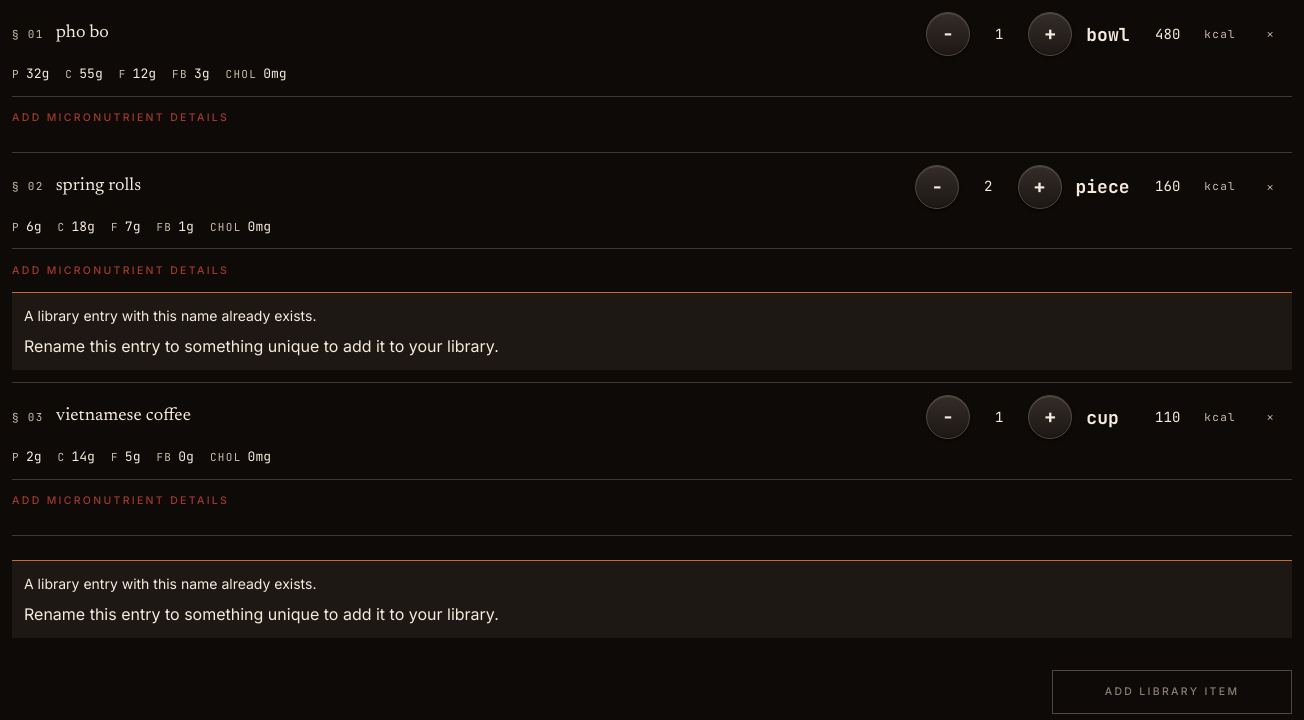
Test: <ConfirmationScreen /> › POST-MVP-CODEX-R3 — per-row clientId + per-row dedup state › R3-C2: renaming the colliding row (row 1) clears its dedup match → Save re-enables
Expected: the message with test id "confirmation-item-1-dedup-banner" is shown, [12, 292, 1292, 370]
Replace the text in the field with test id "confirmation-item-1-name" with "spring rolls fresh". click: {"x": 479, "y": 186}
box: [56, 168, 903, 204]
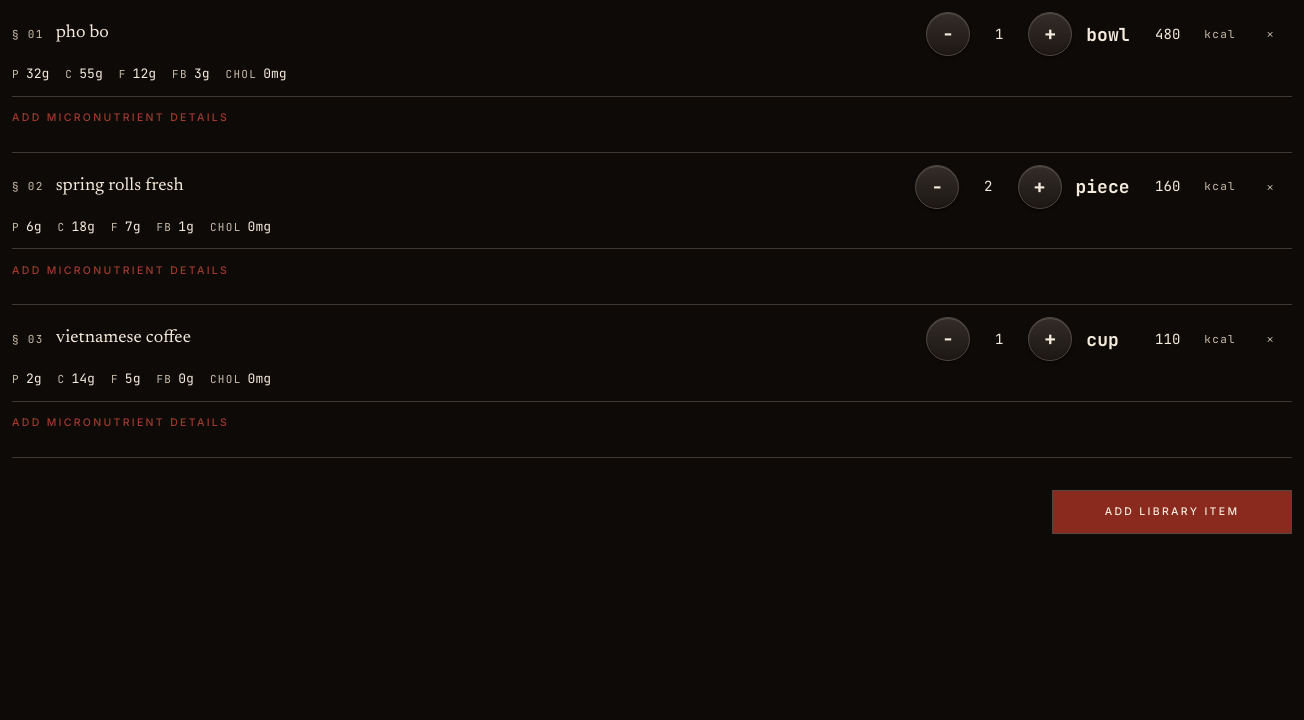
Expected: the message with test id "confirmation-item-1-dedup-banner" is gone
